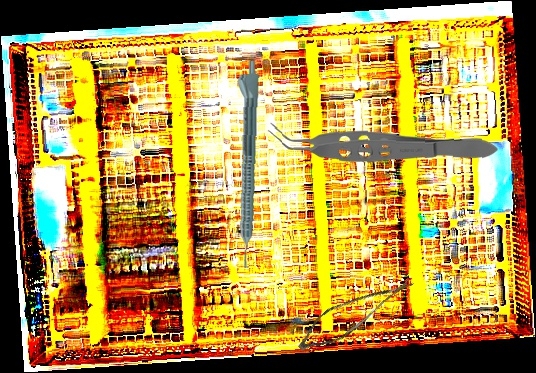Handpiece: (228, 60, 261, 268)
Micro Scissor: (292, 253, 416, 370)
Tissue Forceps: (265, 121, 499, 168)
